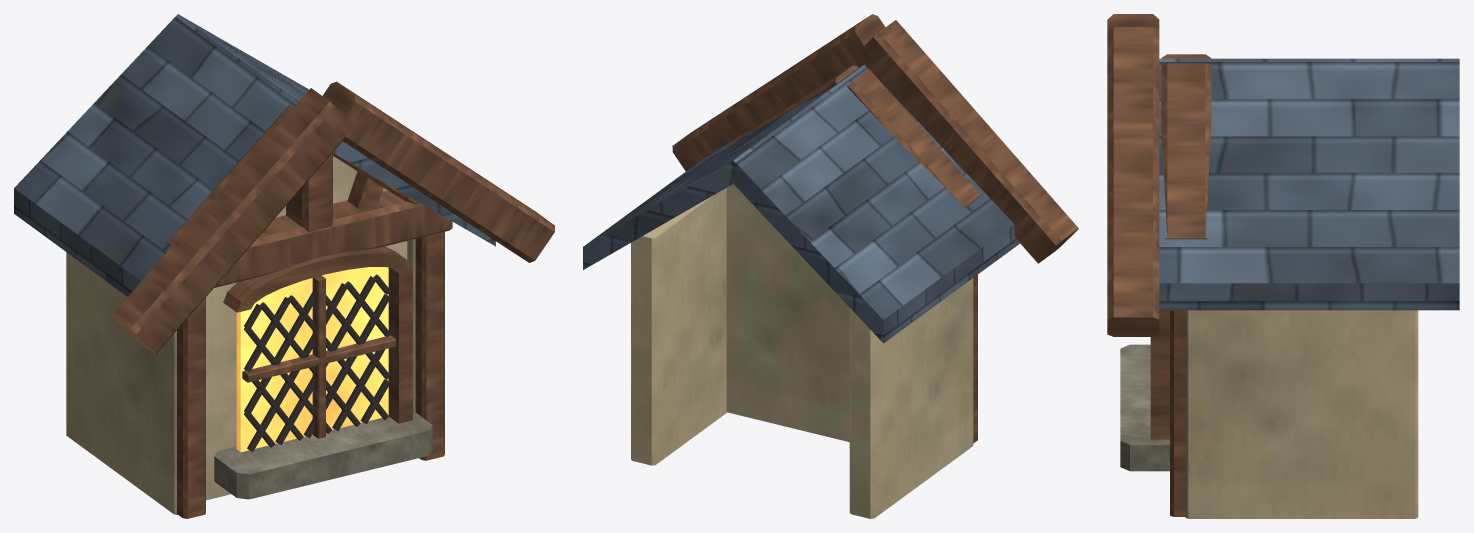
Rendered from dormer.glb.
3 renders of one model, left to right at view 1: azimuth 30°, elevation 25°; view 2: azimuth 150°, elevation 25°; view 3: azimuth 270°, elevation 25°, orthographic. The views are drawn at different scales.
Parts seen in each view (by area): view 1: Dormer; view 2: Dormer; view 3: Dormer.
Part boxes in pixels (x1,y1,x2,y2): Dormer: [14, 14, 554, 518]; Dormer: [583, 14, 1078, 518]; Dormer: [1107, 14, 1459, 518].
Size of the model in its own units: 2.38 by 2.2 by 1.63.
Materials: 6 (5 with a texture image).
